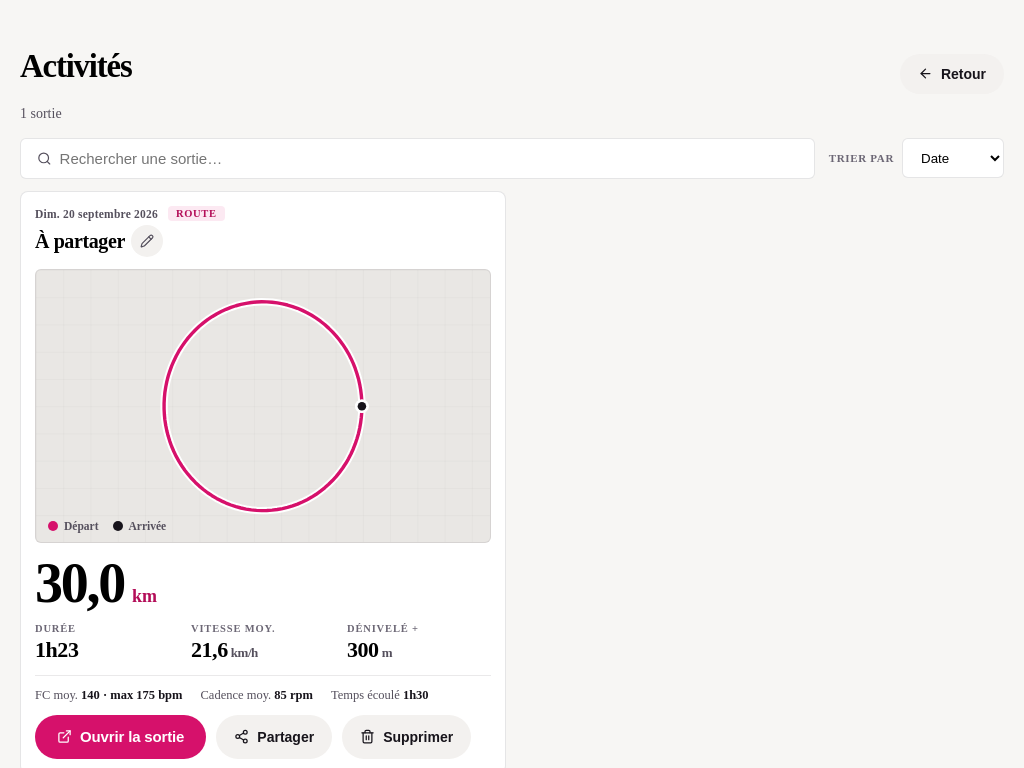
Test: ActivityFeedView — partage › ouvre l'aperçu avec les deux formats, les thèmes et les options de confidentialité
The image size is (1024, 768).
Check: the number of pictures named "Tracé de" is 1, box [36,270,490,542]
Click the button "Partager" at (274, 736), box [216,714,332,758]
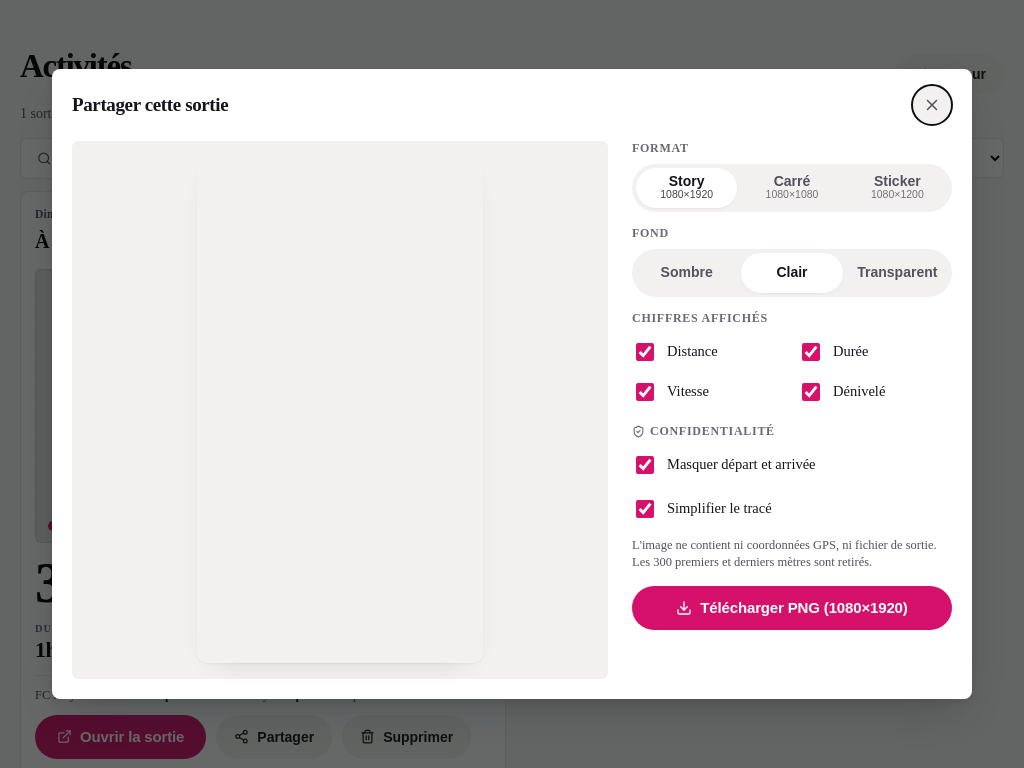
Check: the text "Télécharger PNG (1080×1920)" is shown, box [700,599,908,616]
Click the radio button labelled "Carré 1080×1080" at (792, 188), box [741,168,843,208]
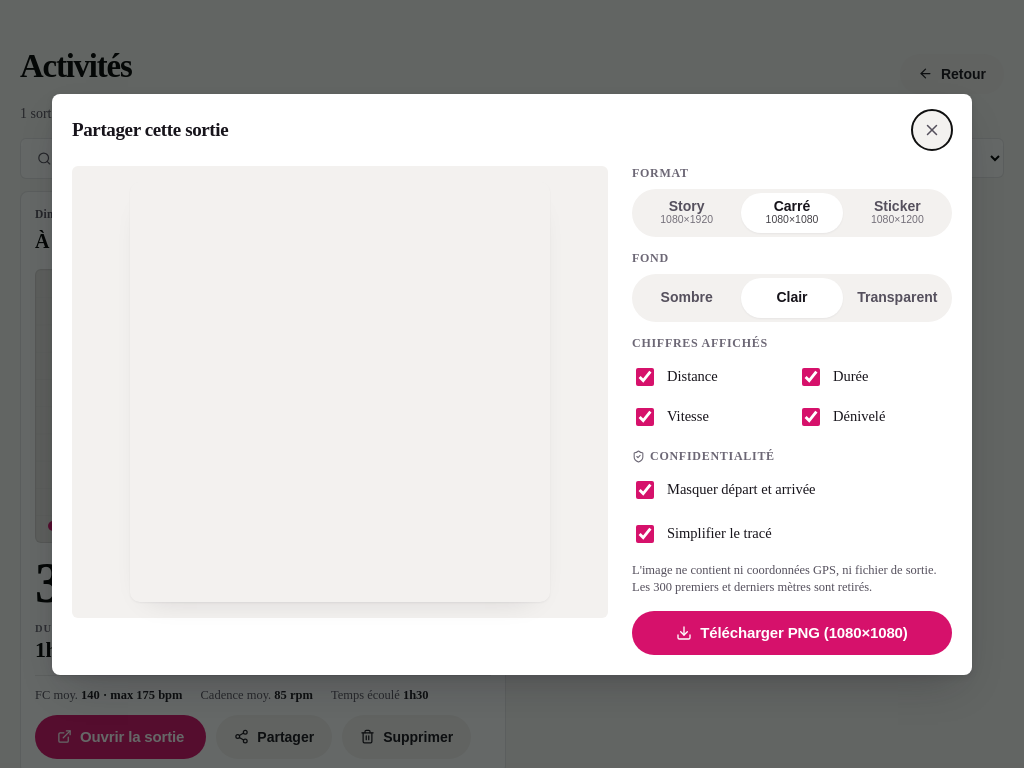
Check: the radio button labelled "Clair" is shown, box [741,278,843,318]
Check: the checkbox labelled "Masquer départ et arrivée" is checked, box [636,480,654,498]
Check: the text "Télécharger PNG (1080×1080)" is shown, box [700,624,908,641]
Click the checkbox labelled "Durée" at (811, 376), box [802,368,820,386]
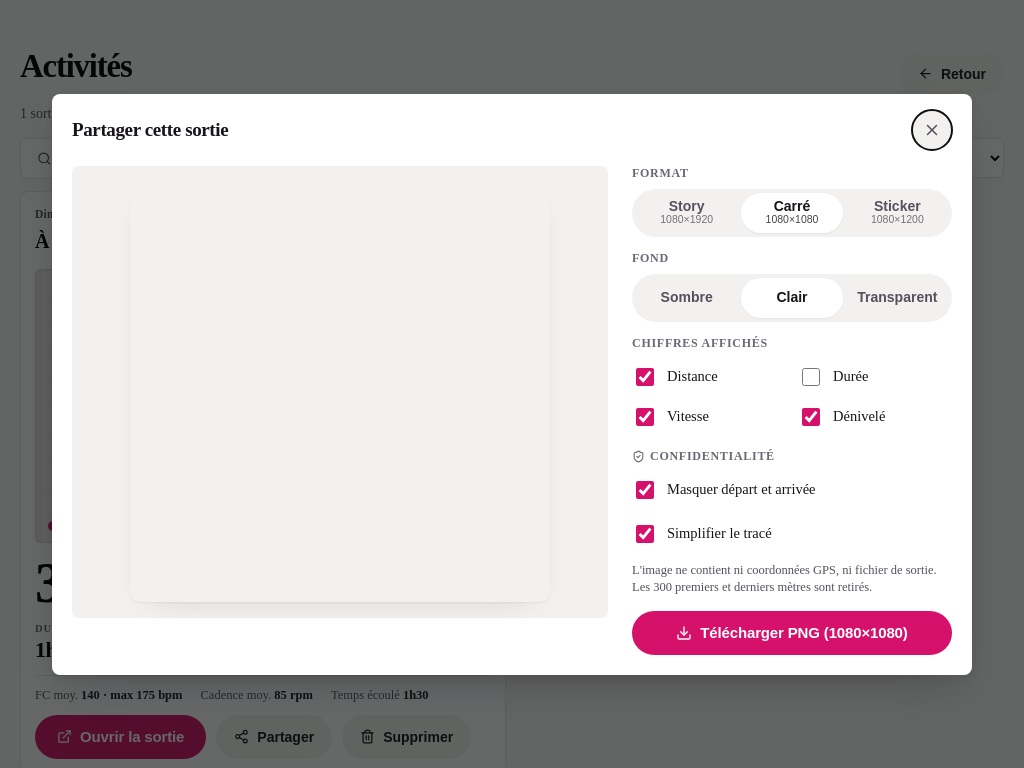
Press Escape
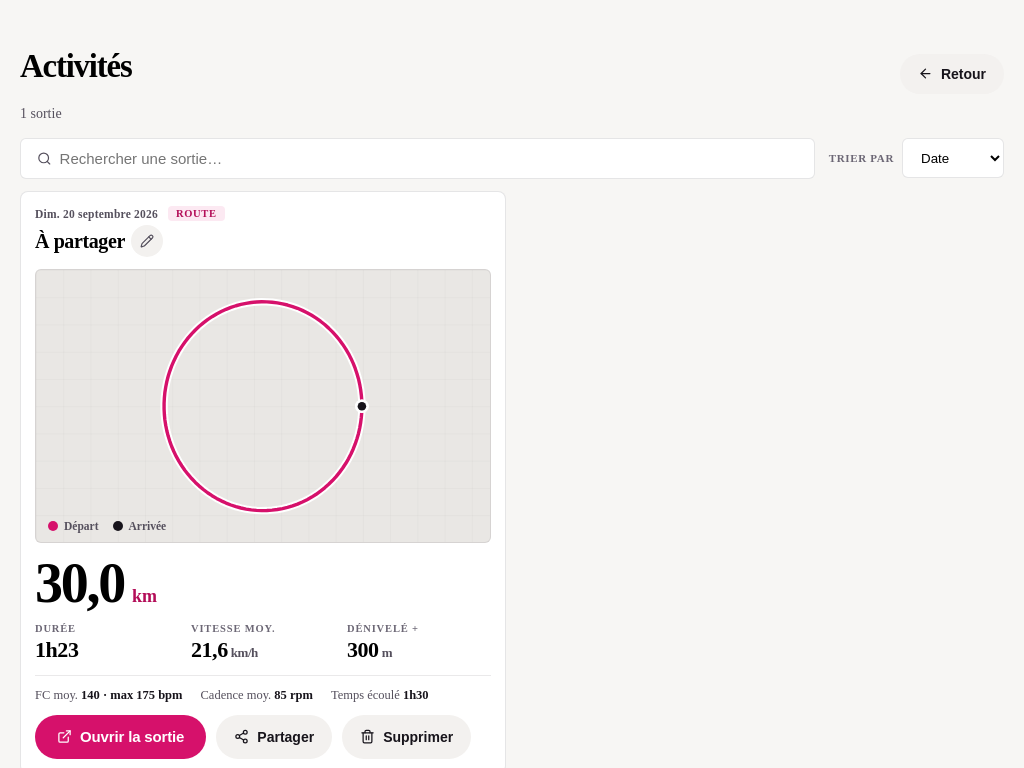
Check: the dialog is gone
